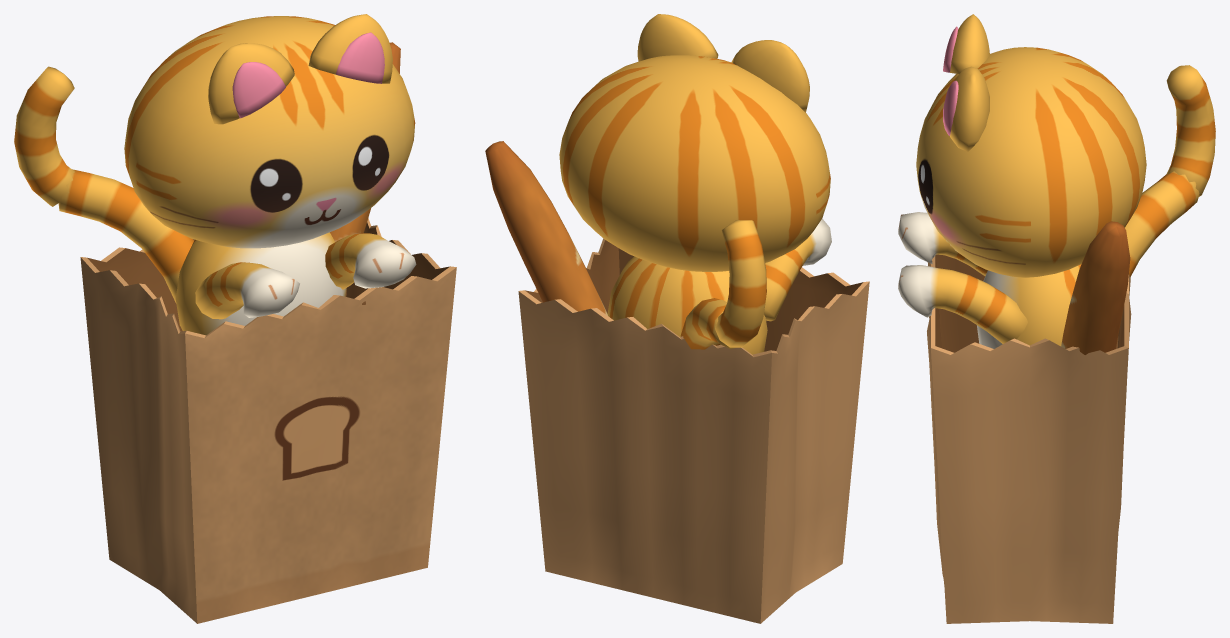
Rendered from bread_cat.glb.
The picture shows the model from 3 angles, left to right: view 1: azimuth 30°, elevation 25°; view 2: azimuth 150°, elevation 25°; view 3: azimuth 270°, elevation 25°; orthographic projection. The views are drawn at different scales.
Visible parts, largest first — view 1: Bag, Head, Body, Tail, Tail2, ArmR, ArmL, Baguette; view 2: Bag, Head, Baguette, Body, Tail2, ArmR, Tail; view 3: Bag, Head, Baguette, ArmL, Tail2, Body, Tail, ArmR.
Boxes of the visible parts, left/top/right/bottom form: Bag: left=80, top=218, right=456, bottom=623; Head: left=124, top=14, right=415, bottom=248; Body: left=175, top=232, right=346, bottom=335; Tail: left=58, top=169, right=193, bottom=303; Tail2: left=14, top=66, right=74, bottom=206; ArmR: left=195, top=262, right=299, bottom=319; ArmL: left=325, top=233, right=416, bottom=289; Baguette: left=330, top=42, right=400, bottom=241; Bag: left=518, top=238, right=869, bottom=623; Head: left=559, top=14, right=830, bottom=271; Baguette: left=485, top=141, right=607, bottom=315; Body: left=607, top=256, right=767, bottom=354; Tail2: left=715, top=220, right=766, bottom=347; ArmR: left=764, top=218, right=831, bottom=321; Tail: left=680, top=298, right=735, bottom=349; Bag: left=927, top=254, right=1131, bottom=623; Head: left=916, top=14, right=1146, bottom=277; Baguette: left=1061, top=221, right=1130, bottom=354; ArmL: left=898, top=265, right=1027, bottom=343; Tail2: left=1166, top=65, right=1215, bottom=196; Body: left=977, top=264, right=1081, bottom=348; Tail: left=1125, top=171, right=1199, bottom=277; ArmR: left=898, top=212, right=987, bottom=275.
Bounding box in the file's own units: 0.8955 × 1.4 × 0.7659.
1 material, 1 textured.
